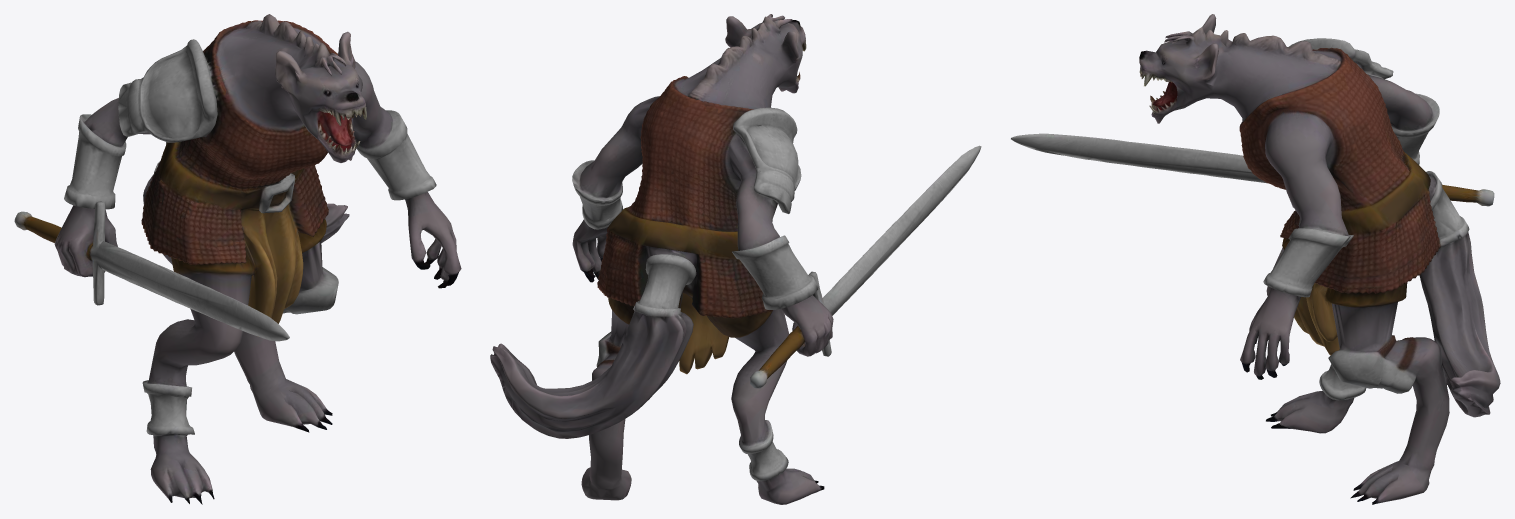
Rendered from MZ4250 - Gnoll Female Fighter.glb.
3 renders of one model, left to right at view 1: azimuth 30°, elevation 25°; view 2: azimuth 150°, elevation 25°; view 3: azimuth 270°, elevation 25°, orthographic. The views are drawn at different scales.
Visible parts, largest first — view 1: Gnoll Female Fighter_low.001; view 2: Gnoll Female Fighter_low.001; view 3: Gnoll Female Fighter_low.001.
Part boxes in pixels (x1=…): Gnoll Female Fighter_low.001: x1=14, y1=14, x2=461, y2=504; Gnoll Female Fighter_low.001: x1=490, y1=14, x2=981, y2=504; Gnoll Female Fighter_low.001: x1=1011, y1=14, x2=1500, y2=504.
Size of the model in its own units: 2.07 by 2.76 by 2.82.
1 material, 1 textured.
